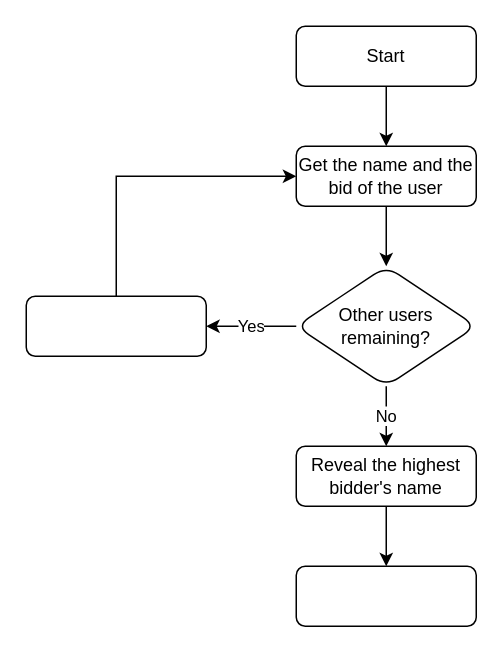
The diagram is 503 pixels wide and 653 high, and some of its shapes have lost their labels. The shapes that lost their labels are listed below. From the top down, each one's centre as x and y in pixels, then its label:
(x=115, y=325): Ask the user to give the device to the next
(x=385, y=595): End
